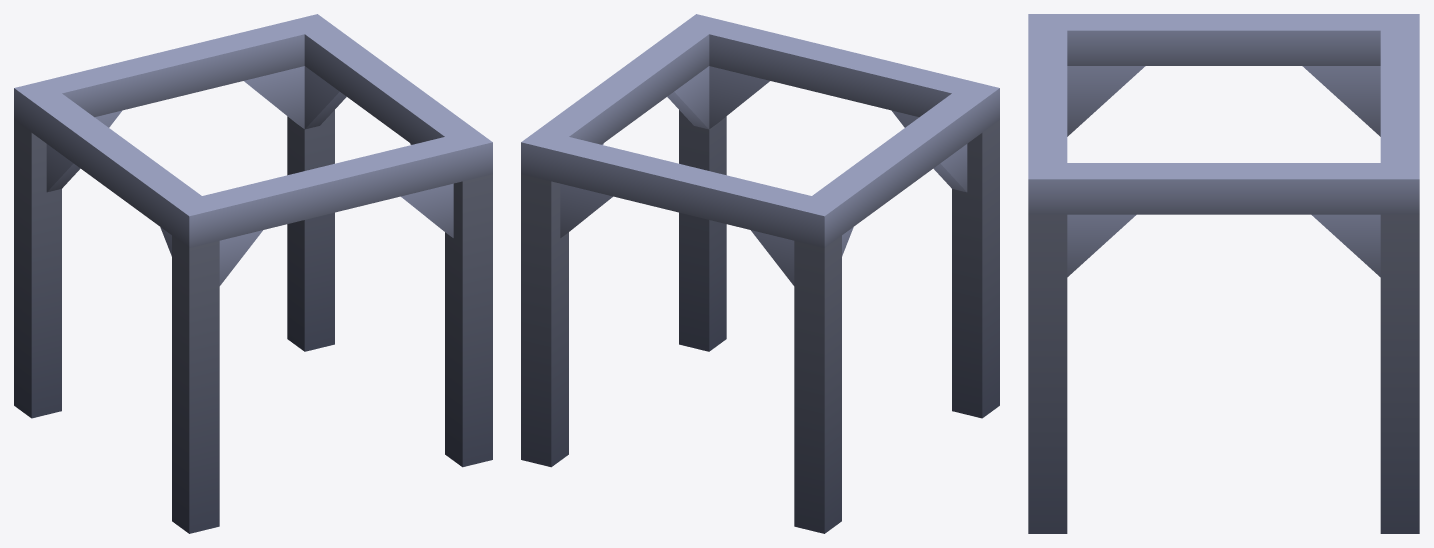
The model's file is structure.glb.
3 views of the same model, side by side, from view 1: azimuth 30°, elevation 25°; view 2: azimuth 150°, elevation 25°; view 3: azimuth 270°, elevation 25° (orthographic). The views are drawn at different scales.
Parts seen in each view (by area): view 1: Group; view 2: Group; view 3: Group.
Part boxes in pixels (<box>): Group: <box>14,14,492,533</box>; Group: <box>521,14,999,533</box>; Group: <box>1028,14,1419,533</box>.
Bounding box in the file's own units: 1 × 1 × 1.
